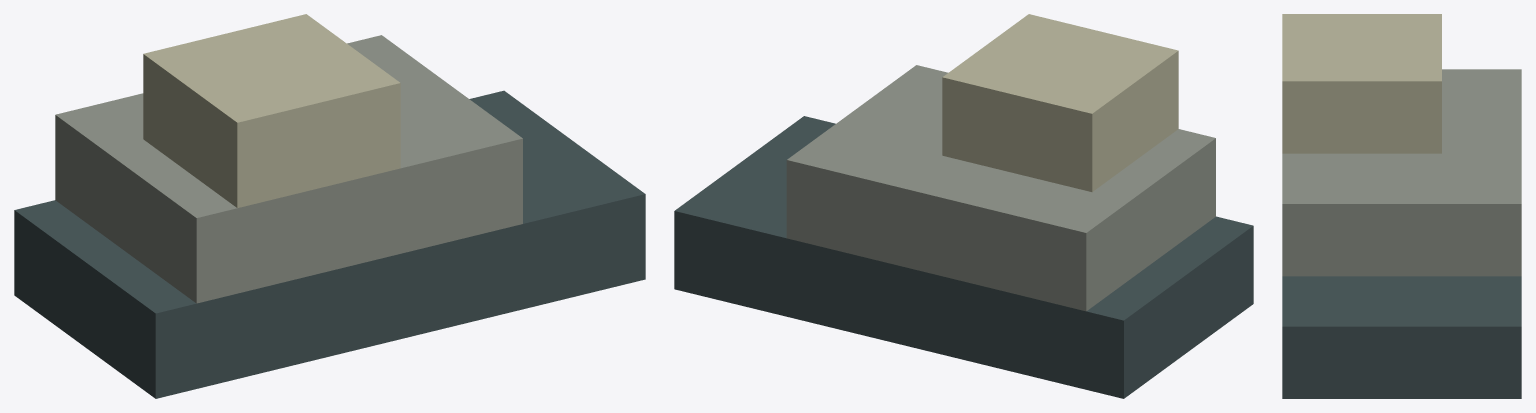
Rendered from le04.reference.ridge.palette.glb.
3 renders of one model, left to right at view 1: azimuth 30°, elevation 25°; view 2: azimuth 150°, elevation 25°; view 3: azimuth 270°, elevation 25°, orthographic. The views are drawn at different scales.
Visible parts, largest first — view 1: VW.foot.001, VW.body.001, VW.crest.001; view 2: VW.foot.001, VW.body.001, VW.crest.001; view 3: VW.body.001, VW.foot.001, VW.crest.001.
Boxes of the visible parts, left/top/right/bottom form: VW.foot.001: left=14, top=90, right=645, bottom=398; VW.body.001: left=55, top=35, right=522, bottom=303; VW.crest.001: left=143, top=14, right=400, bottom=207; VW.foot.001: left=674, top=116, right=1253, bottom=398; VW.body.001: left=786, top=65, right=1215, bottom=311; VW.crest.001: left=942, top=14, right=1178, bottom=191; VW.body.001: left=1282, top=69, right=1521, bottom=276; VW.foot.001: left=1282, top=276, right=1521, bottom=398; VW.crest.001: left=1282, top=14, right=1441, bottom=153.
Size of the model in its own units: 3 by 1.5 by 1.5.
2 materials, 2 textured.
